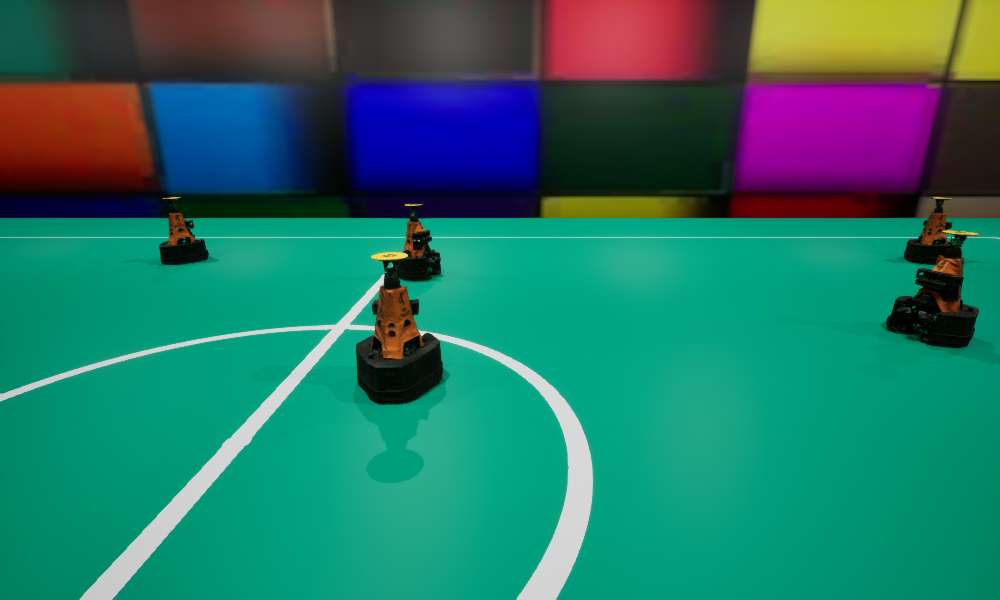0 orange robot TechUnited: (356, 252, 442, 404), (886, 230, 978, 347), (393, 204, 440, 280), (159, 197, 208, 264), (904, 197, 953, 264)
